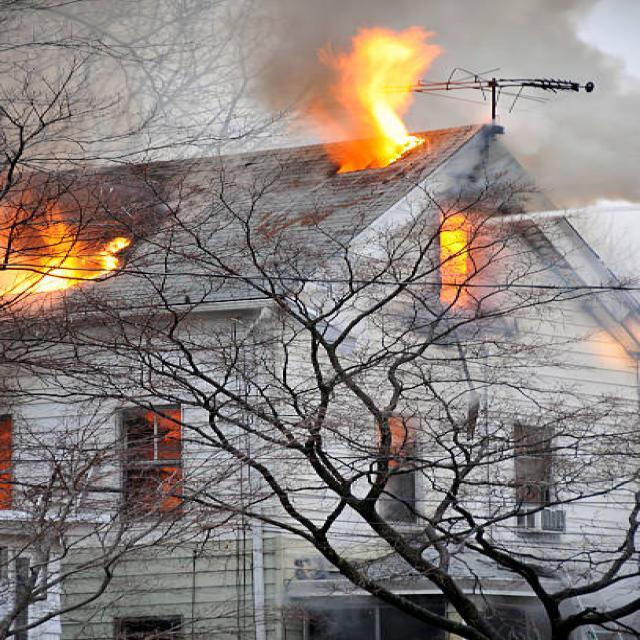Fire: (0, 186, 131, 296), (330, 26, 422, 176), (430, 214, 477, 312)
Smoke: (240, 0, 640, 212)
